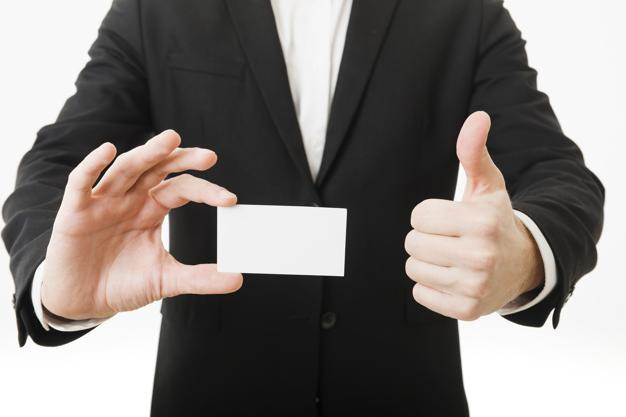thumbsup: (403, 111, 505, 321)
